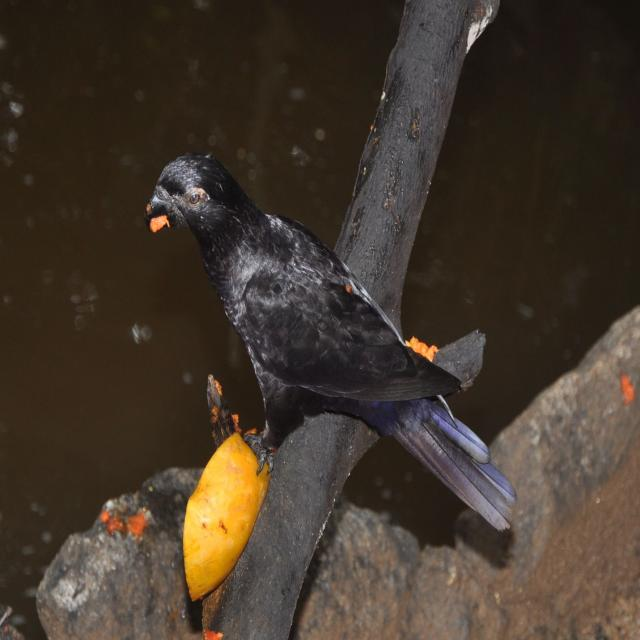Nuri Hitam: (133, 137, 535, 550)
